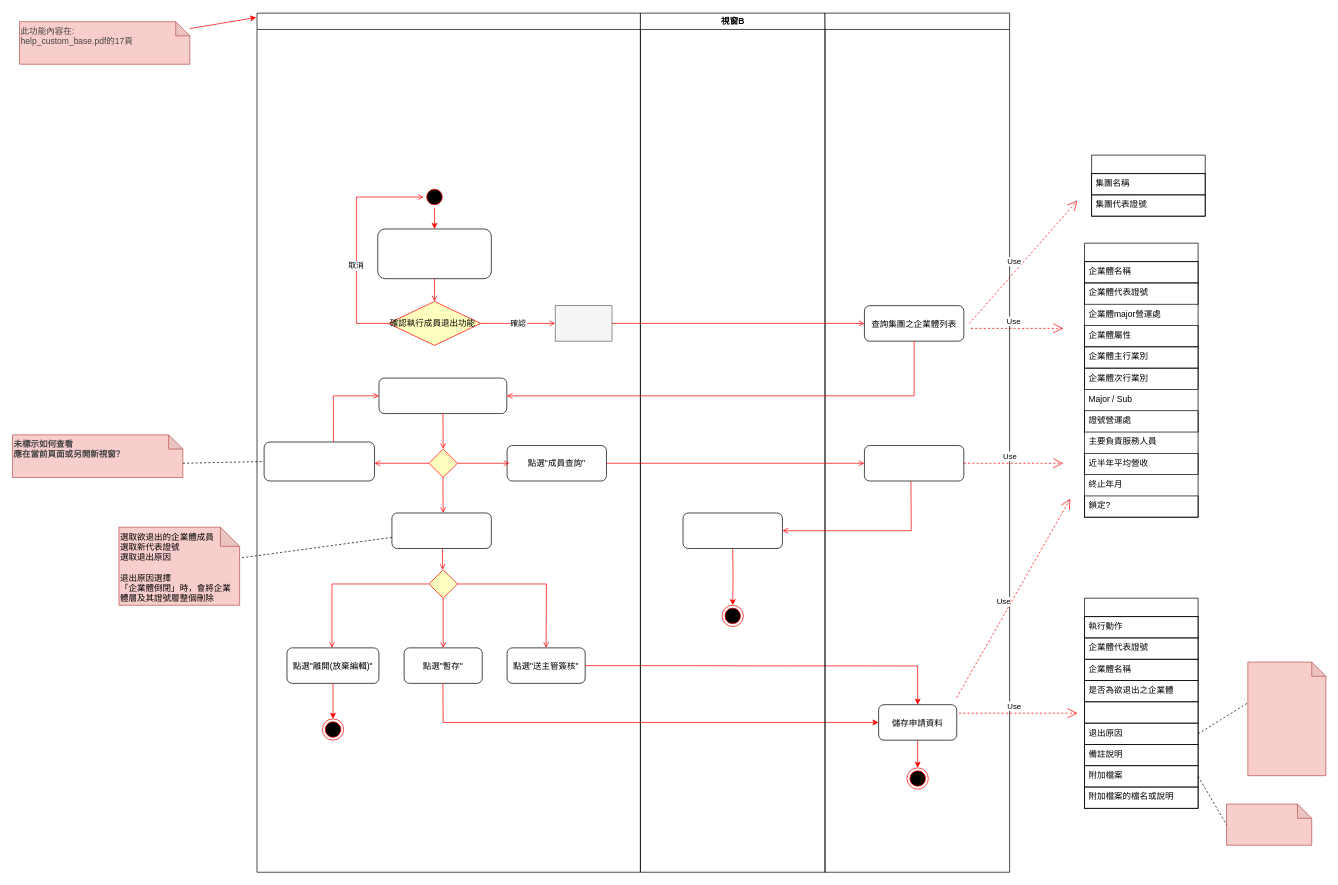
This 1338x885 diagram has some shape labels left out. The shapes that lost their labels are listed below. From the top down, each one's box as (x1, y1, x2, y2) in pixels, then its label:
(1091, 154, 1205, 216): 集團資訊
(377, 228, 491, 279): 在集團篩選出來的列表中， 於維護作業欄位中點選 「● 成員退出」功能。
(555, 305, 612, 341): 1.使用者身分 2.集團資訊
(378, 377, 507, 414): 瀏覽集團之企業體列表
(1084, 242, 1198, 517): 企業體資訊
(263, 441, 375, 481): 點選"查看本集團異動歷史"
(256, 12, 640, 872): 視窗A
(824, 12, 1010, 872): server
(864, 445, 964, 481): 查詢該企業體資訊
(391, 512, 491, 548): 編輯成員退出申請表單
(682, 512, 782, 548): 瀏覽企業體資訊
(1084, 597, 1198, 808): 企業體成員退出申請資料
(1084, 701, 1198, 723): 是否為新代表證號
(1247, 661, 1326, 776): 退出原因分為 1.企業體倒閉 2.其他原因 1. 企業體倒閉: 會將企業體層及其證號層整個刪除 2. 其他原因: 問題-是否僅為更改企業體狀態？
(1226, 803, 1312, 845): 附加檔案有三個
